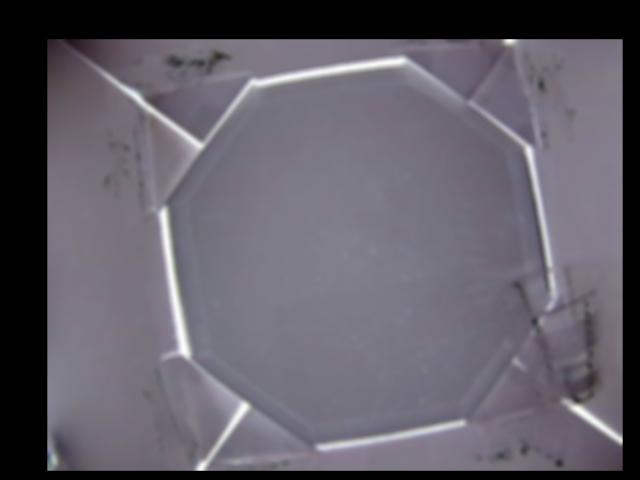Cup: (497, 261, 605, 408)
